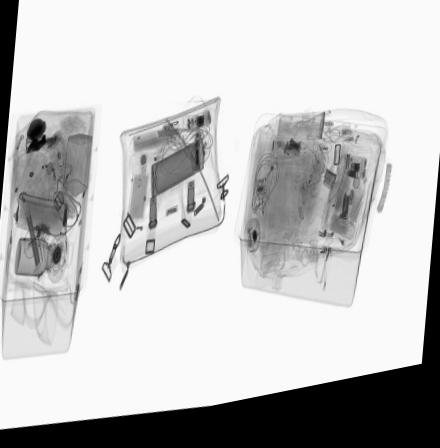Lighter: (282, 153, 301, 170)
